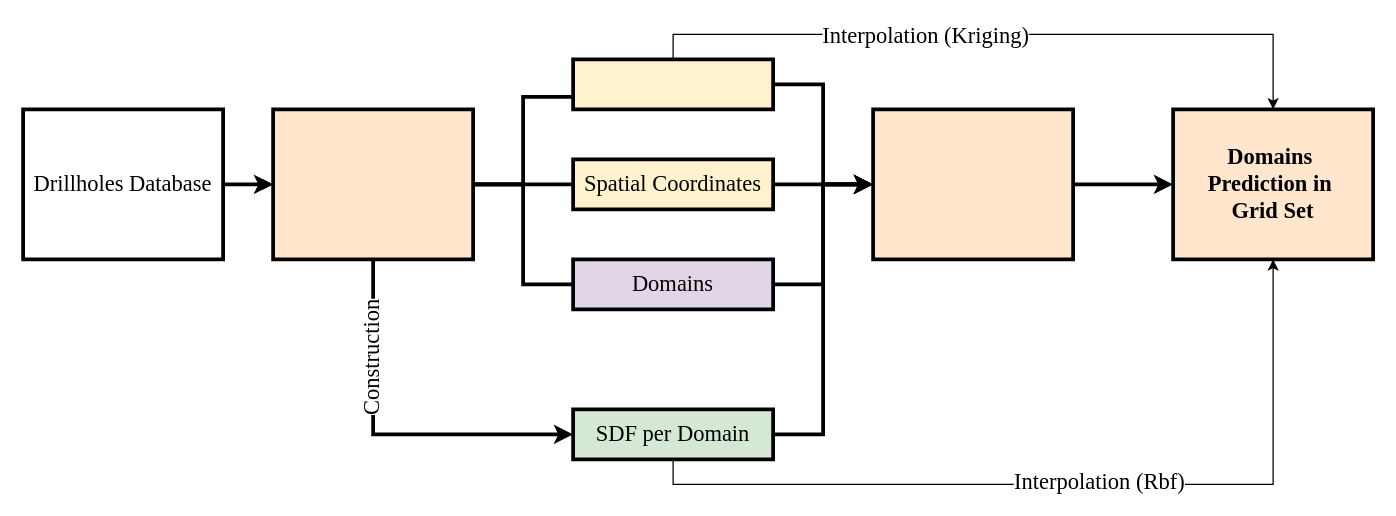
This 1396x516 diagram has some shape labels left out. The centre of each missing label's shape, as x and y in pixels:
"Auxiliar Variable" belongs at (x=672, y=84).
"Data Preprocessing" belongs at (x=372, y=184).
"Training and Testing Stacking Model" belongs at (x=972, y=184).
